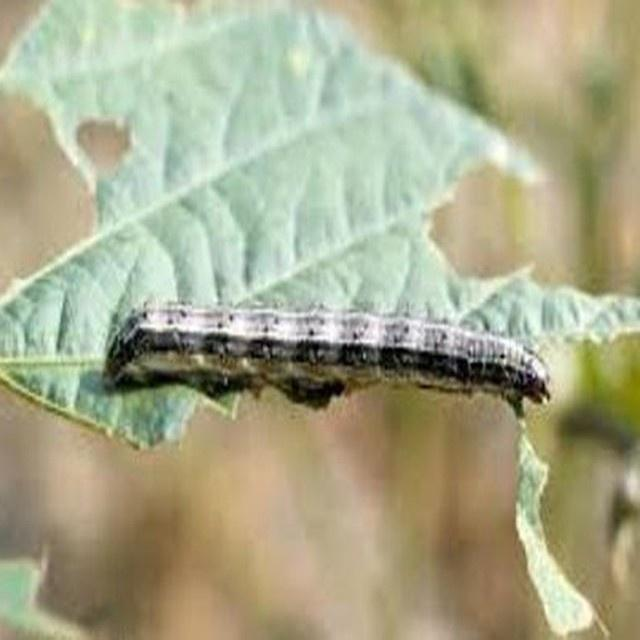gusano_cogollero: (101, 295, 554, 414)
